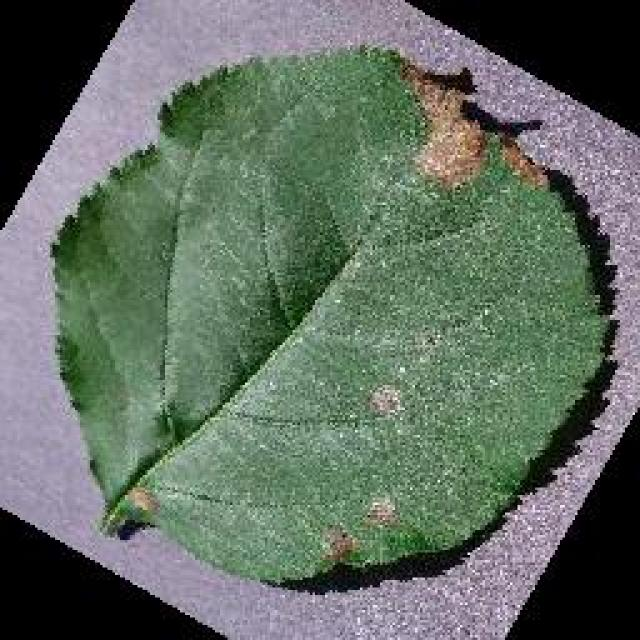Black_rot: (45, 42, 615, 588)
